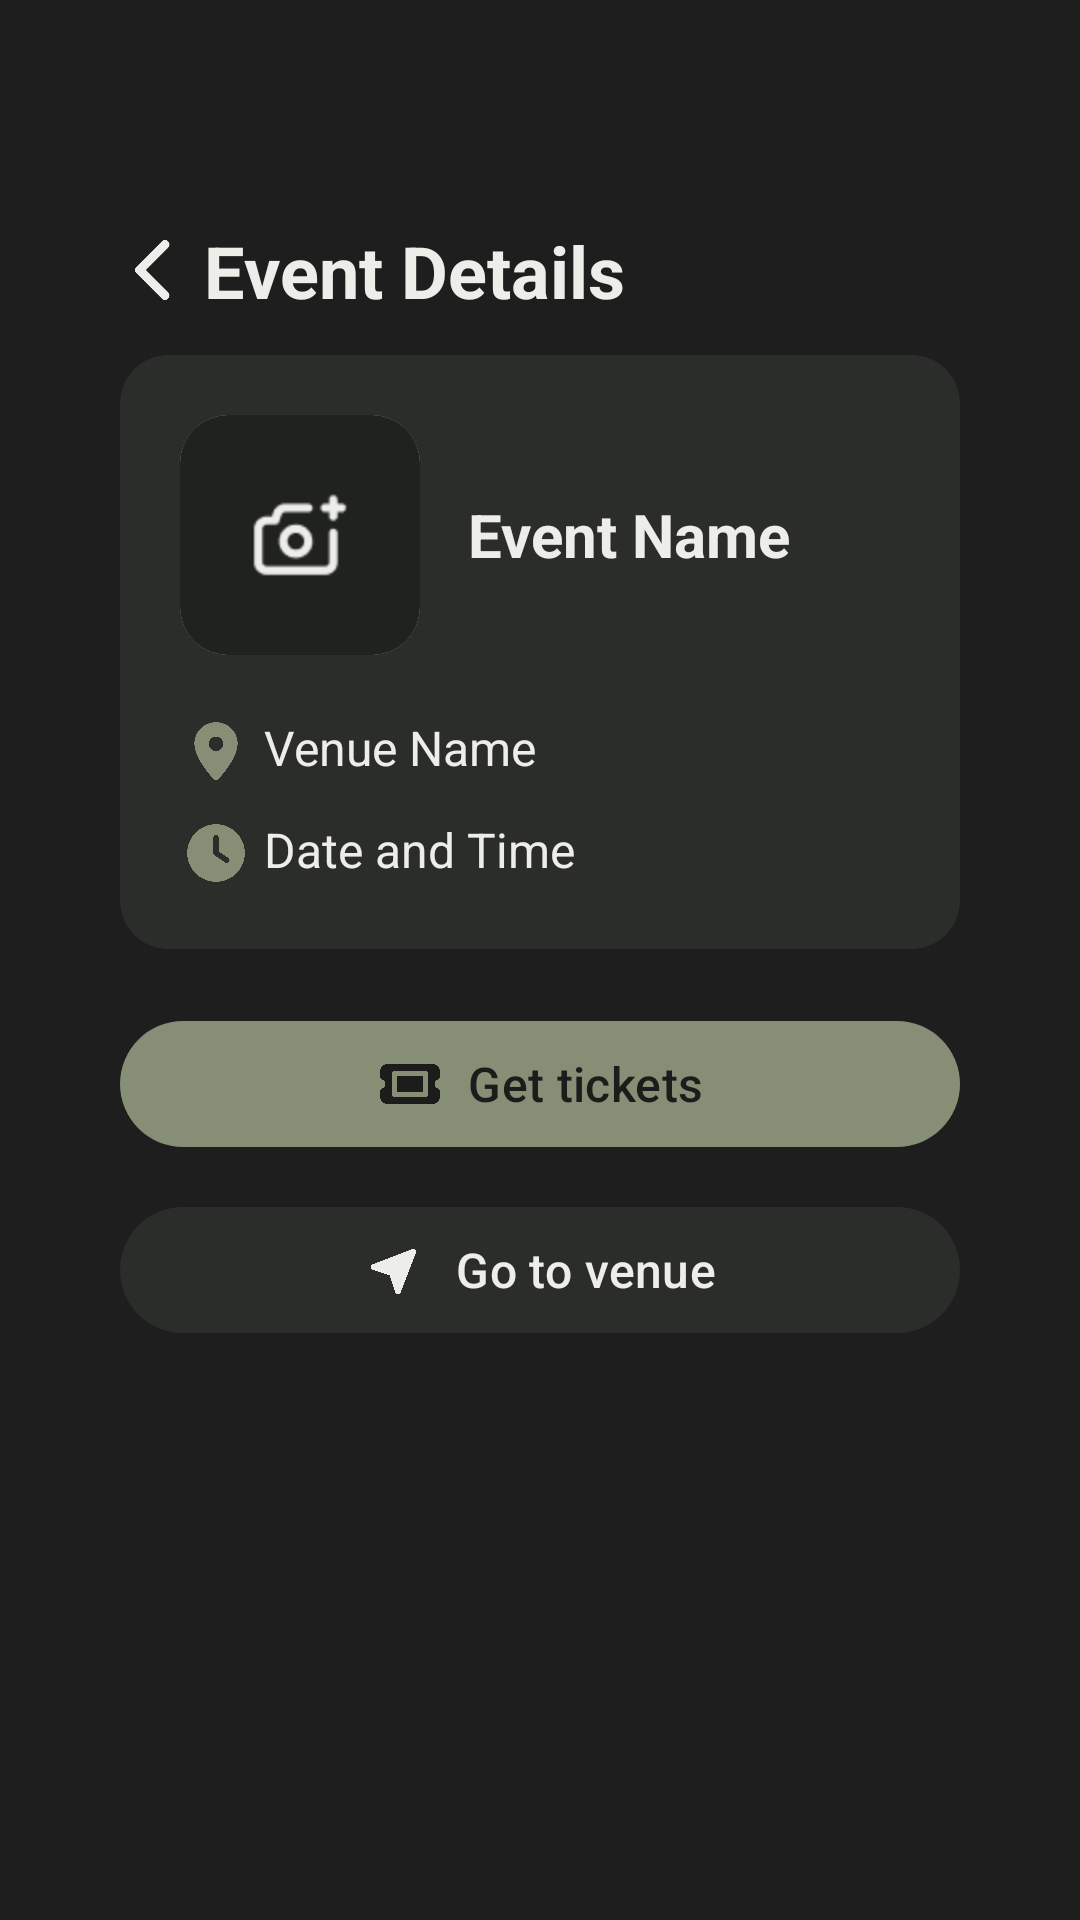

Screen size 1080 x 1920. Icon name, then its center in pixels as (x,y):
back: (152,270)
clock: (216,853)
location: (216,751)
